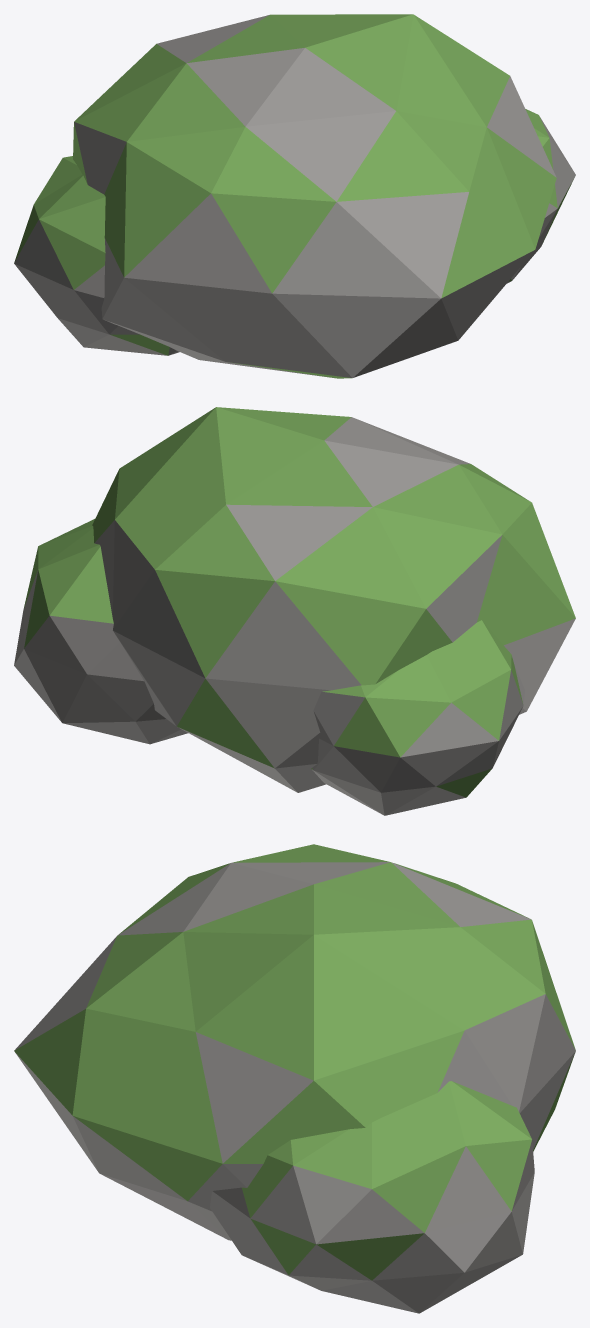
The model's file is MossRock.glb.
3 views of the same model, one above another, from view 1: azimuth 30°, elevation 25°; view 2: azimuth 150°, elevation 25°; view 3: azimuth 270°, elevation 25° (orthographic). The views are drawn at different scales.
Parts seen in each view (by area): view 1: MossRock; view 2: MossRock; view 3: MossRock.
Boxes of the visible parts, x1=… form: MossRock: x1=14, y1=14, x2=575, y2=378; MossRock: x1=14, y1=407, x2=575, y2=815; MossRock: x1=14, y1=844, x2=575, y2=1313.
Bounding box in the file's own units: 2.21 × 1.33 × 1.93.
